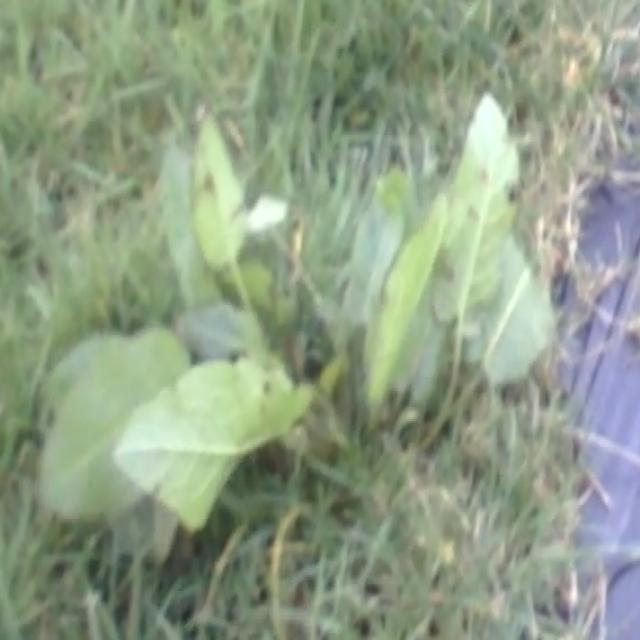organic waste: (0, 122, 585, 536)
